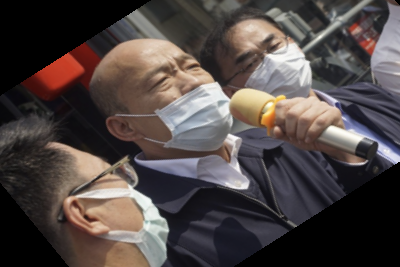mask_weared_incorrect: (83, 25, 235, 158)
